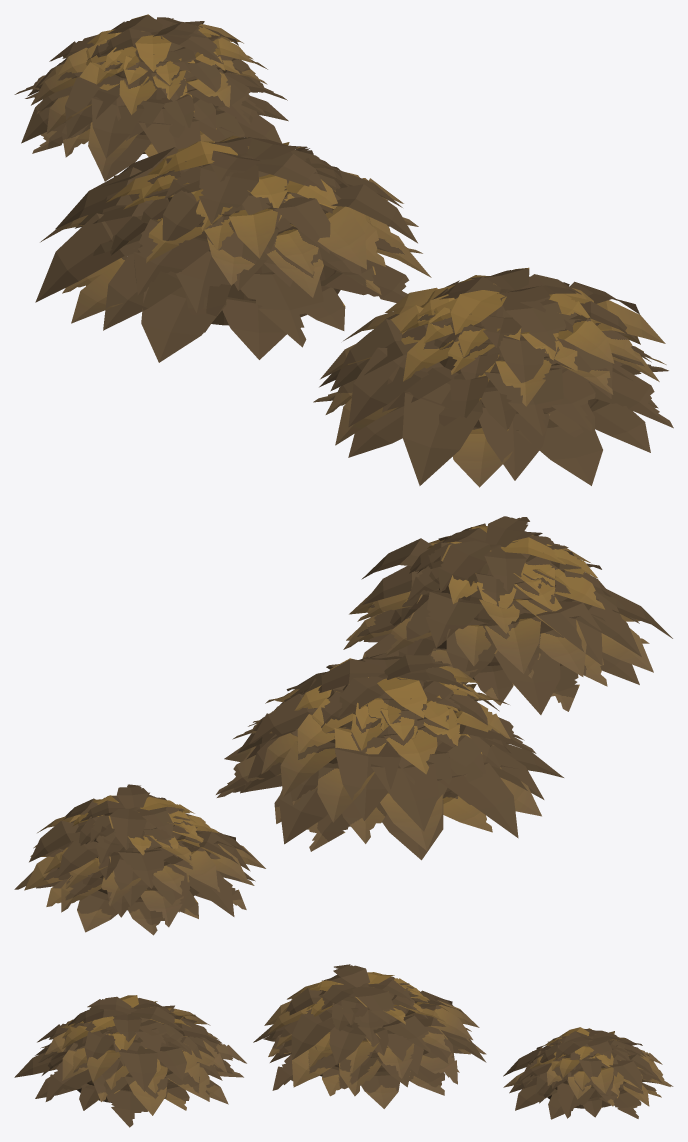
The model's file is bushes-m.fbx.
3 renders of one model, top to bottom at view 1: azimuth 30°, elevation 25°; view 2: azimuth 150°, elevation 25°; view 3: azimuth 270°, elevation 25°, orthographic. The views are drawn at different scales.
Parts seen in each view (by area): view 1: Plane.011, Plane.010, Plane.012; view 2: Plane.011, Plane.010, Plane.012; view 3: Plane.011, Plane.010, Plane.012.
Part boxes in pixels (x1=…): Plane.011: x1=35, y1=135, x2=431, y2=362; Plane.010: x1=313, y1=267, x2=673, y2=487; Plane.012: x1=14, y1=14, x2=288, y2=181; Plane.011: x1=216, y1=652, x2=563, y2=860; Plane.010: x1=343, y1=516, x2=672, y2=714; Plane.012: x1=14, y1=784, x2=265, y2=935; Plane.011: x1=253, y1=964, x2=486, y2=1108; Plane.010: x1=14, y1=995, x2=246, y2=1127; Plane.012: x1=503, y1=1027, x2=673, y2=1119.
Bounding box in the file's own units: 528 × 179 × 1229.
